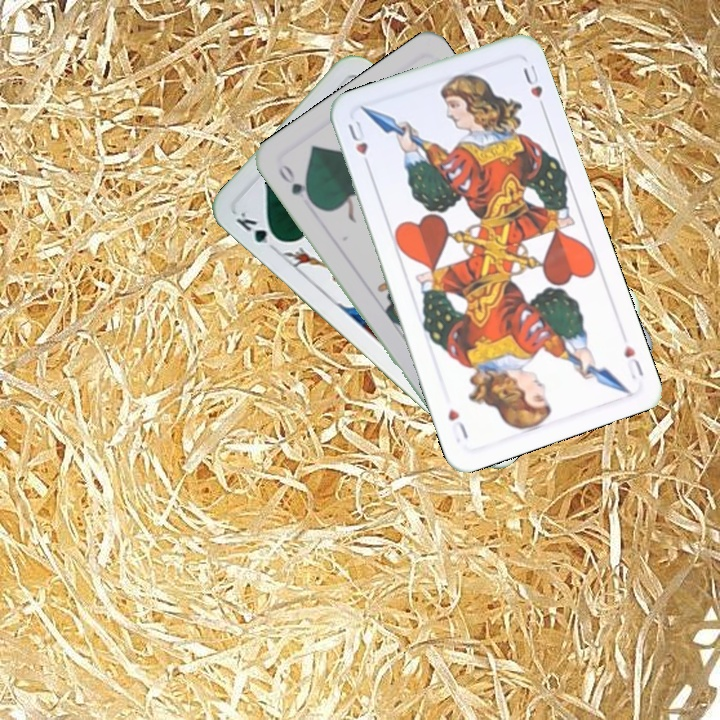GK: (231, 207, 285, 254)
GO: (274, 160, 318, 208)
HU: (344, 116, 374, 173), (620, 341, 647, 382)
